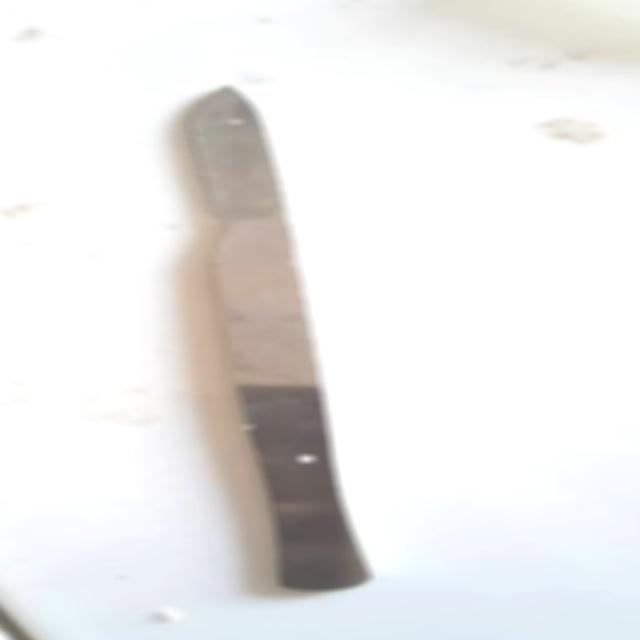Knife: (166, 83, 387, 603)
